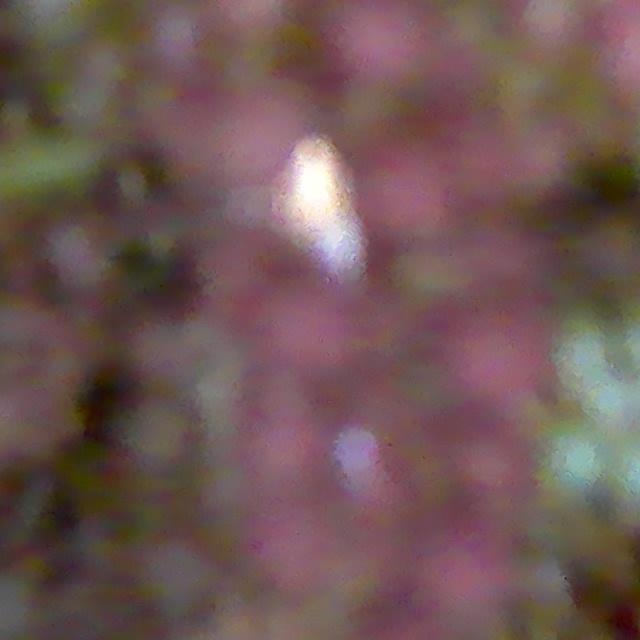SeaGrape: (358, 113, 460, 260), (310, 0, 450, 99), (443, 409, 543, 527), (233, 390, 330, 507), (444, 295, 555, 396), (258, 279, 372, 373), (419, 529, 541, 610), (463, 118, 566, 207), (260, 518, 349, 615), (213, 82, 296, 185), (494, 0, 583, 79), (194, 226, 283, 304), (141, 2, 216, 85), (545, 426, 606, 510), (550, 328, 615, 389)
